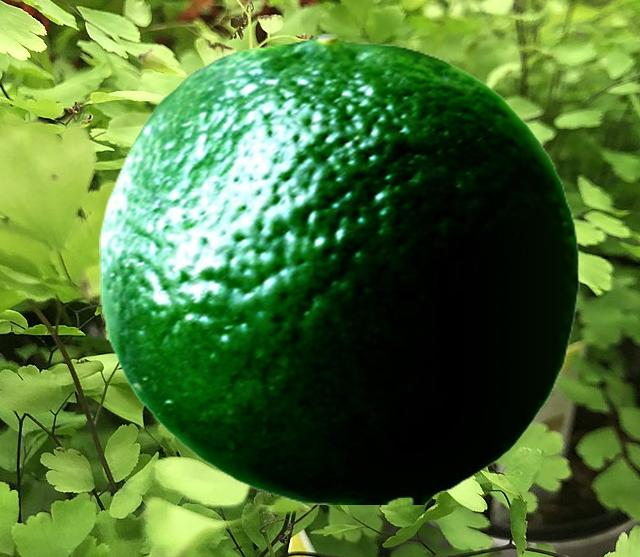calamansi: (99, 32, 578, 503)
